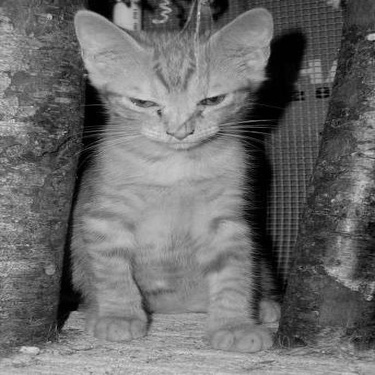cat: (61, 8, 282, 343)
